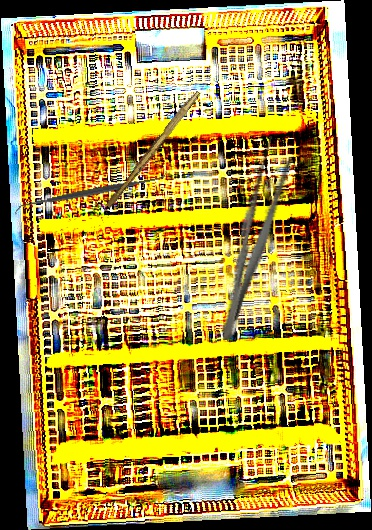Dressing Forceps: (210, 134, 297, 345)
Scalpel Handle: (105, 87, 201, 211)
Spatula Surgical: (10, 168, 171, 217)
